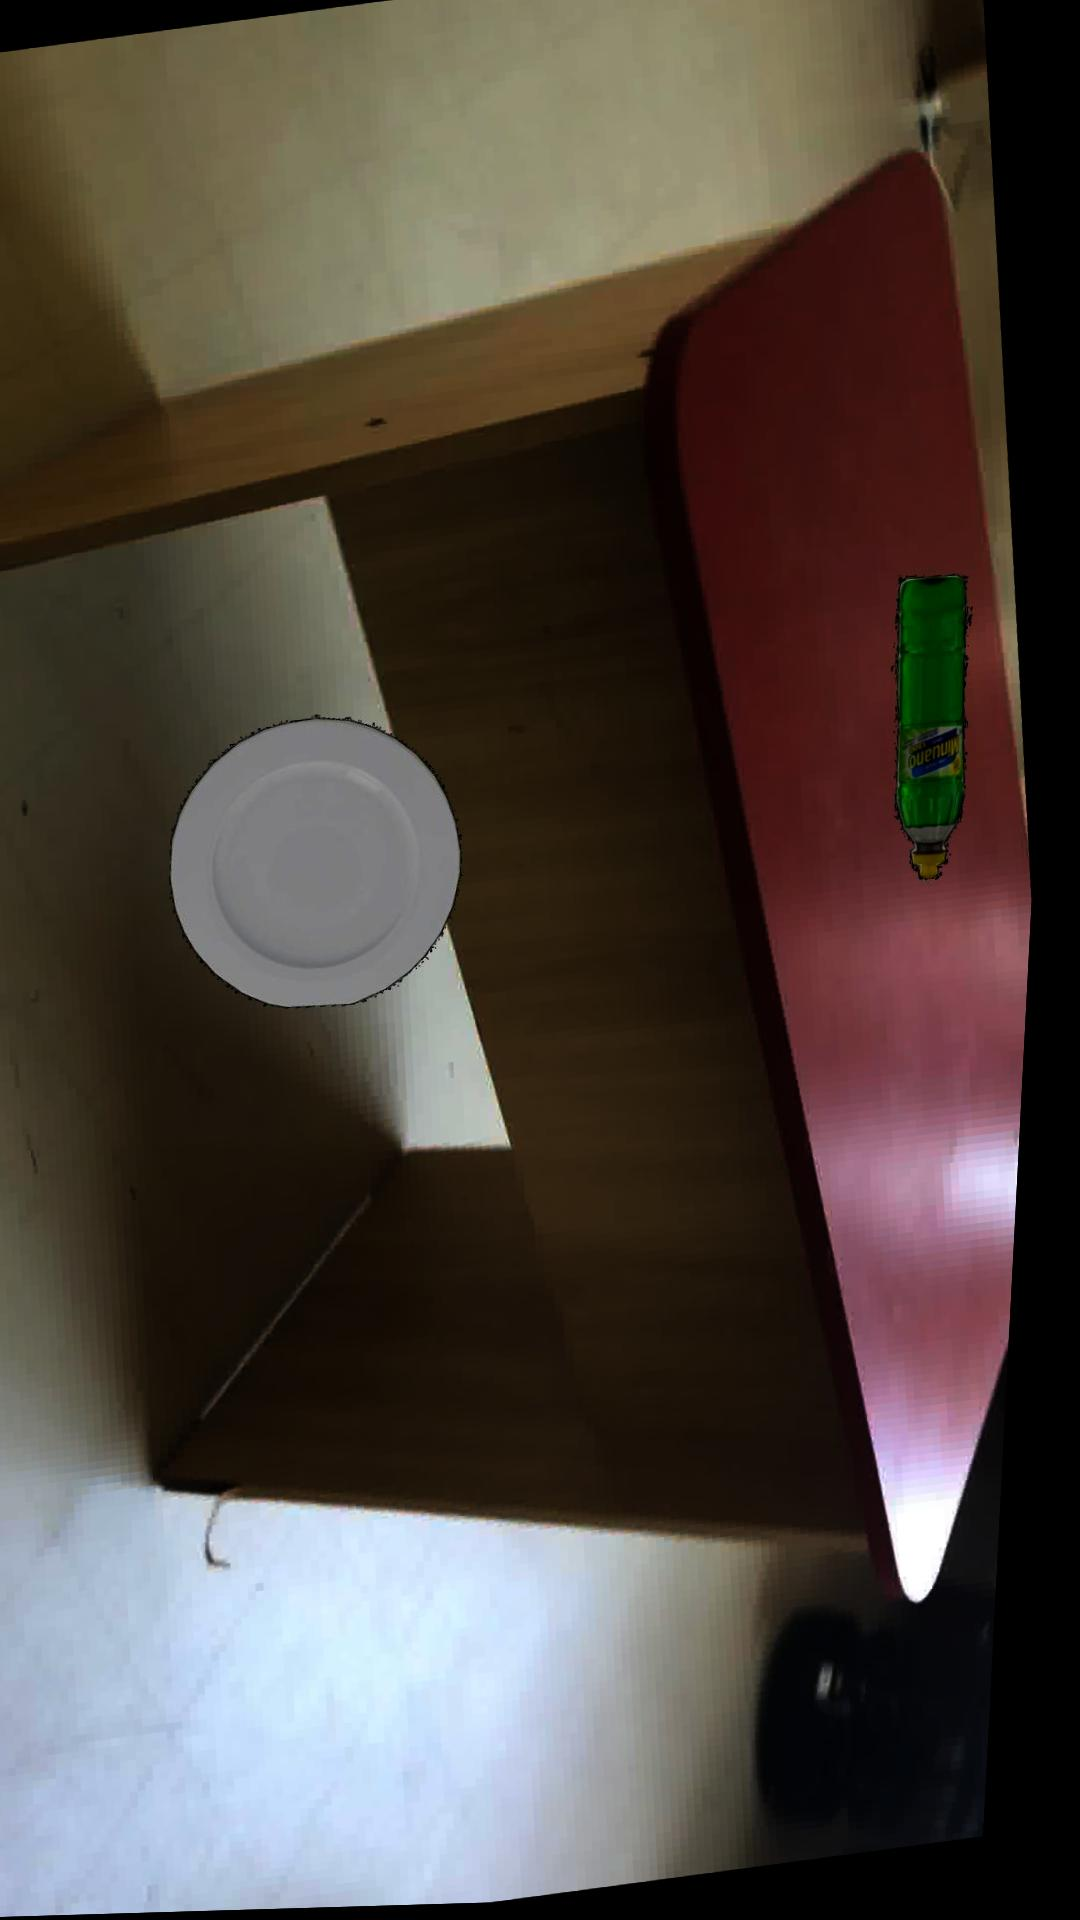cleaner: (899, 582, 976, 886)
plate: (178, 720, 469, 1011)
